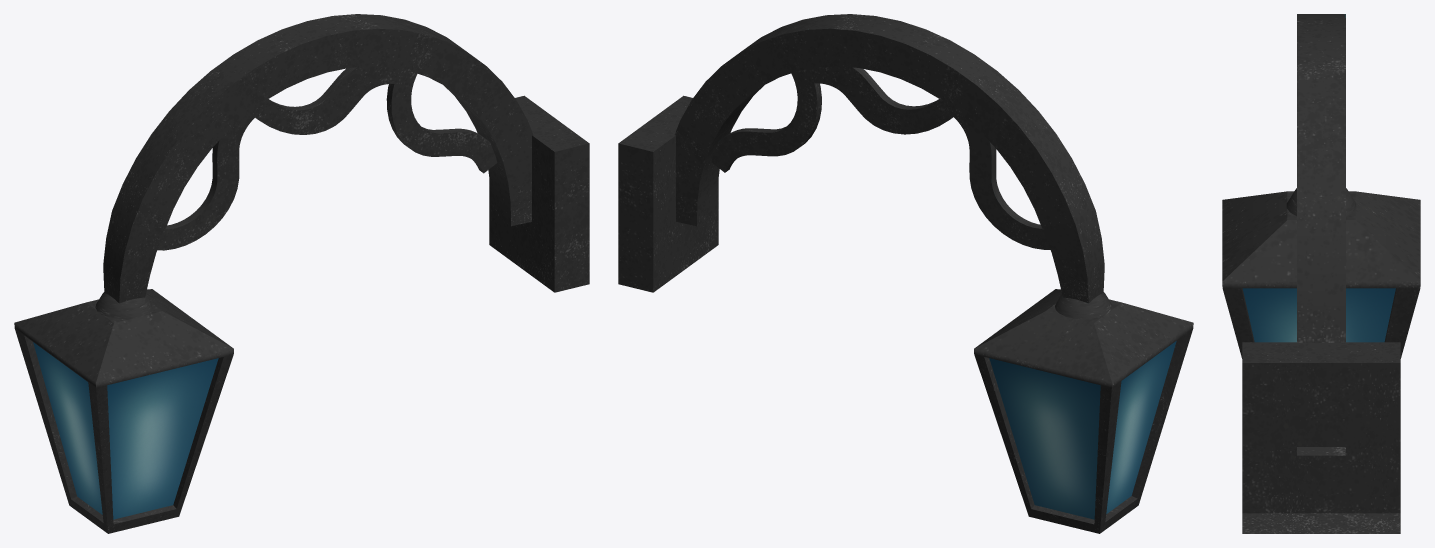
File: Lamp2.obj
3 renders of one model, left to right at view 1: azimuth 30°, elevation 25°; view 2: azimuth 150°, elevation 25°; view 3: azimuth 270°, elevation 25°, orthographic. The views are drawn at different scales.
Parts seen in each view (by area): view 1: Lamp2; view 2: Lamp2; view 3: Lamp2.
Part boxes in pixels (left/top/right/bottom): Lamp2: left=14, top=14, right=589, bottom=533; Lamp2: left=618, top=14, right=1193, bottom=533; Lamp2: left=1222, top=14, right=1420, bottom=533.
Size of the model in its own units: 2.41 by 2 by 0.679.
